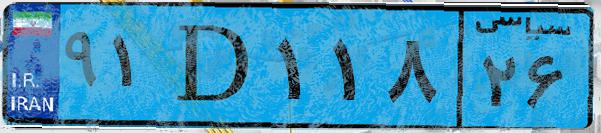1: (270, 28, 330, 110), (330, 28, 385, 110), (110, 28, 158, 98)
2: (475, 38, 525, 113)
6: (525, 38, 570, 115)
8: (385, 28, 445, 110)
9: (57, 26, 110, 100)
D: (158, 12, 270, 120)
